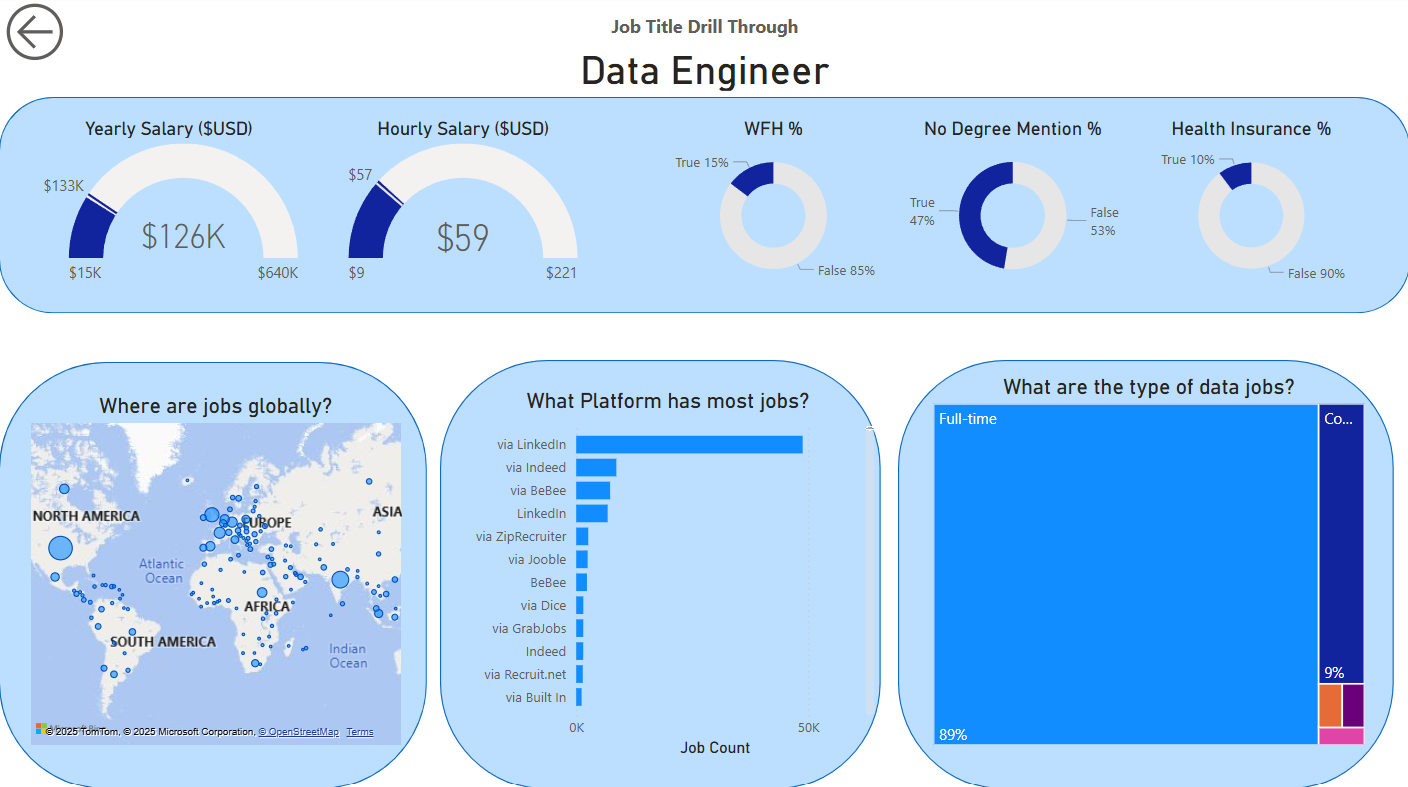

The dashboard page shown, as its layout file describes it:
{"tool":"powerbi","page":{"name":"Job Title Drill Through","canvas":[1280,720],"ordinal":1},"visuals":[{"type":"shape","box":[0,91.8,1280,196.3],"z":0,"group":"g1"},{"type":"shape","box":[815.4,329.9,449.5,390.3],"z":0},{"type":"group","id":"g1","title":"Background","box":[0,91.8,1280,628.7],"z":1000},{"type":"shape","box":[0,332.5,387.9,387.9],"z":1000,"group":"g1"},{"type":"cardVisual","fields":{"Data":["Min(job_postings_flat.job_title_short)1"]},"box":[214.9,0,850.2,91.8],"z":2000},{"type":"shape","box":[399.6,329.9,399.6,390.3],"z":2000,"group":"g1"},{"type":"actionButton","box":[0,0,122,65],"z":3000},{"type":"gauge","title":"Yearly Salary ($USD)","fields":{"Y":["Median(job_postings_flat.salary_year_avg)"],"MinValue":["Min(job_postings_flat.salary_year_avg)1"],"MaxValue":["Max(job_postings_flat.salary_year_avg)2"],"TargetValue":["Avg(job_postings_flat.salary_year_avg)3"]},"box":[20.8,109.8,265.5,159.8],"z":4000},{"type":"gauge","title":"Hourly Salary ($USD)","fields":{"Y":["Median(job_postings_flat.salary_hour_avg)"],"MinValue":["Min(job_postings_flat.salary_hour_avg)1"],"MaxValue":["Max(job_postings_flat.salary_hour_avg)2"],"TargetValue":["Avg(job_postings_flat.salary_hour_avg)3"]},"box":[286.3,109.8,268.2,159.8],"z":5000},{"type":"donutChart","title":"WFH %","fields":{"Category":["job_postings_flat.job_work_from_home"],"Y":["CountNonNull(job_postings_flat.job_work_from_home)"]},"box":[599,109.8,205.7,159.8],"z":6000},{"type":"donutChart","title":"No Degree Mention %","fields":{"Category":["job_postings_flat.job_no_degree_mention"],"Y":["CountNonNull(job_postings_flat.job_no_degree_mention)"]},"box":[814.4,109.8,209.9,159.8],"z":7000},{"type":"donutChart","title":"Health Insurance %","fields":{"Y":["CountNonNull(job_postings_flat.job_health_insurance)"],"Category":["job_postings_flat.job_health_insurance"]},"box":[1035.4,109.8,200.1,159.8],"z":8000},{"type":"azureMap","title":"Where are jobs globally?","fields":{"Category":["job_postings_flat.job_country"],"Size":["CountNonNull(job_postings_flat.job_title_short)"]},"box":[23.2,360.1,346.1,324.1],"z":9000},{"type":"treemap","title":"What are the type of data jobs?","fields":{"Group":["job_postings_flat.job_schedule_type"],"Values":["CountNonNull(job_postings_flat.job_schedule_type)"]},"box":[842.1,342.6,400.7,341.5],"z":10000},{"type":"barChart","title":"What Platform has most jobs?","fields":{"Category":["job_postings_flat.job_via"],"Y":["CountNonNull(job_postings_flat.job_via)"]},"box":[414.7,355.4,384.5,339.2],"z":11000}]}

Visuals, with their boxes in screenshot pixels (x1, y1, x2, y2), scaled from the page's 1280x720 canvas onto the 1408x787 screenshot:
shape: region(0, 100, 1407, 315)
shape: region(897, 361, 1391, 786)
"Background" group: region(0, 100, 1407, 786)
shape: region(0, 363, 427, 786)
cardVisual - Min(job_postings_flat.job_title_short)1: region(236, 0, 1172, 100)
shape: region(440, 361, 879, 786)
actionButton: region(0, 0, 134, 71)
"Yearly Salary ($USD)" gauge: region(23, 120, 315, 295)
"Hourly Salary ($USD)" gauge: region(315, 120, 610, 295)
"WFH %" donutChart: region(659, 120, 885, 295)
"No Degree Mention %" donutChart: region(896, 120, 1127, 295)
"Health Insurance %" donutChart: region(1139, 120, 1359, 295)
"Where are jobs globally?" azureMap: region(26, 394, 406, 748)
"What are the type of data jobs?" treemap: region(926, 374, 1367, 748)
"What Platform has most jobs?" barChart: region(456, 388, 879, 759)
